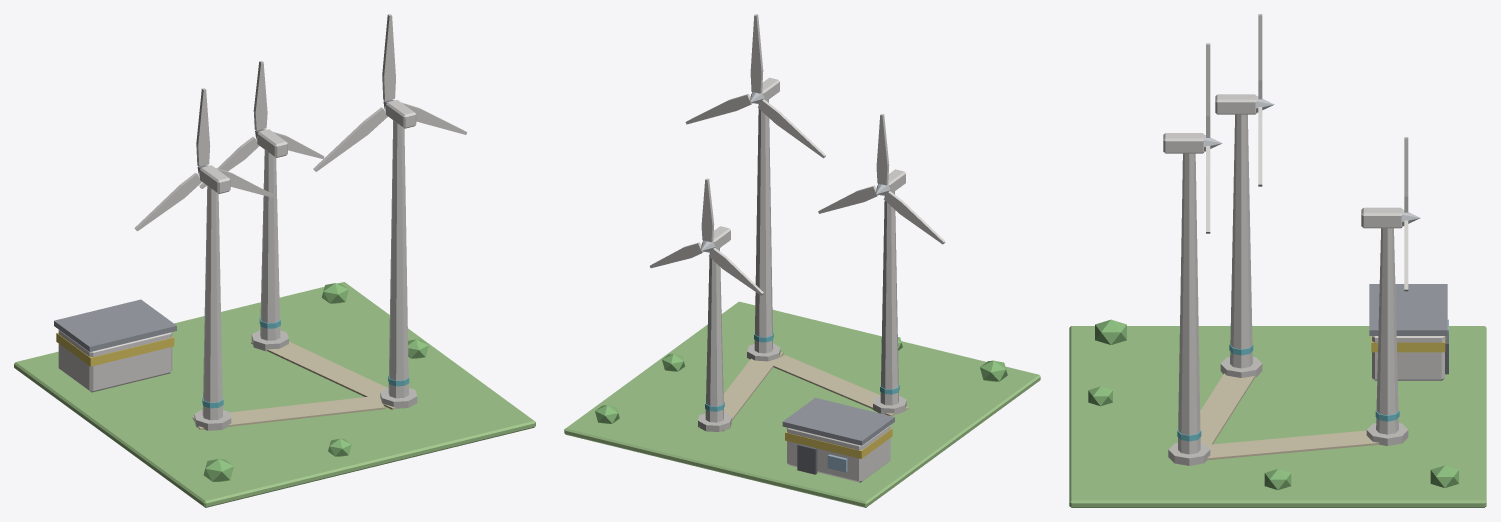
Rendered from energia__parque_eolico.glb.
3 views of the same model, side by side, from view 1: azimuth 30°, elevation 25°; view 2: azimuth 150°, elevation 25°; view 3: azimuth 270°, elevation 25° (orthographic). The views are drawn at different scales.
Parts seen in each view (by area): view 1: energia__parque_eolico; view 2: energia__parque_eolico; view 3: energia__parque_eolico.
Part boxes in pixels (x1,y1,x2,y2): energia__parque_eolico: (14,14,535,507); energia__parque_eolico: (564,14,1040,507); energia__parque_eolico: (1069,14,1486,507).
Bounding box in the file's own units: 4 × 4.45 × 4.
